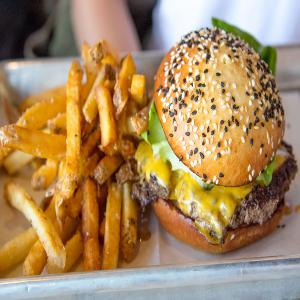cheeseburger_475cal: (156, 25, 297, 261)
fries_350cal: (8, 37, 154, 274)
